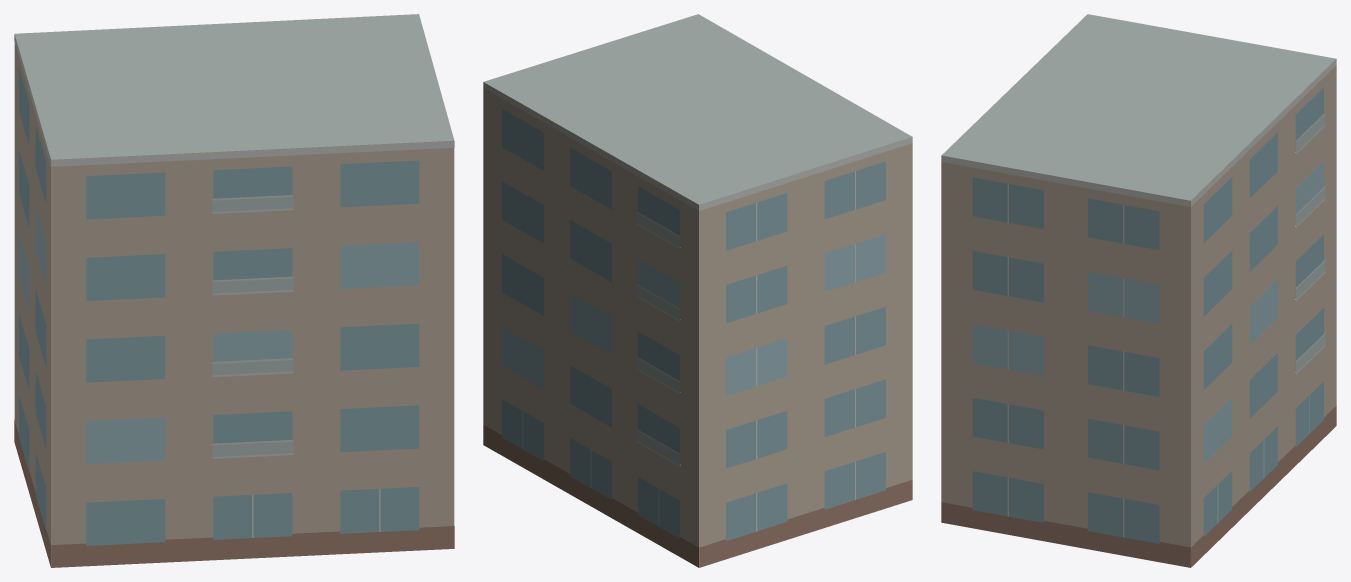
Rendered from survey-upis-33008342.glb.
The picture shows the model from 3 angles, left to right: view 1: azimuth 30°, elevation 25°; view 2: azimuth 150°, elevation 25°; view 3: azimuth 270°, elevation 25°; orthographic projection. The views are drawn at different scales.
Visible parts, largest first — view 1: survey-upis-33008342.tmp; view 2: survey-upis-33008342.tmp; view 3: survey-upis-33008342.tmp.
Part boxes in pixels (x1=…): survey-upis-33008342.tmp: x1=14, y1=14, x2=454, y2=567; survey-upis-33008342.tmp: x1=483, y1=14, x2=912, y2=567; survey-upis-33008342.tmp: x1=941, y1=14, x2=1336, y2=567.
Size of the model in its own units: 15.33 by 14.05 by 13.71.
